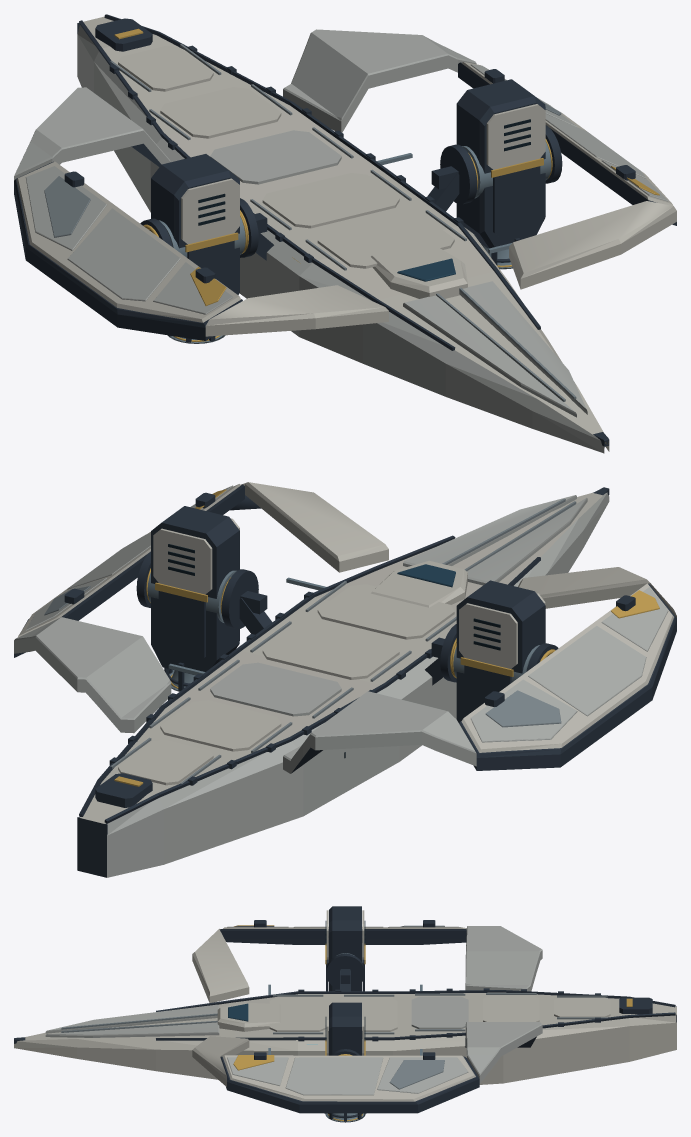
The model's file is shuttle_02_d0_lod1.glb.
3 renders of one model, top to bottom at view 1: azimuth 30°, elevation 25°; view 2: azimuth 150°, elevation 25°; view 3: azimuth 270°, elevation 25°, orthographic. The views are drawn at different scales.
Visible parts, largest first — view 1: HULL, THRUSTER_R_SURFACE, THRUSTER_L_SURFACE, CANOPY; view 2: HULL, THRUSTER_R_SURFACE, THRUSTER_L_SURFACE, CANOPY; view 3: HULL, THRUSTER_R_SURFACE, THRUSTER_L_SURFACE.
Boxes of the visible parts, box(x1,y1,x2,y2) form: HULL: box(14, 14, 676, 453); THRUSTER_R_SURFACE: box(456, 79, 552, 269); THRUSTER_L_SURFACE: box(151, 154, 247, 343); CANOPY: box(397, 258, 455, 281); HULL: box(14, 482, 676, 877); THRUSTER_R_SURFACE: box(146, 506, 239, 691); THRUSTER_L_SURFACE: box(451, 580, 545, 723); CANOPY: box(397, 564, 455, 587); HULL: box(14, 920, 676, 1113); THRUSTER_R_SURFACE: box(324, 1002, 366, 1122); THRUSTER_L_SURFACE: box(325, 906, 365, 991).
Size of the model in its own units: 25.2 by 7.65 by 42.
